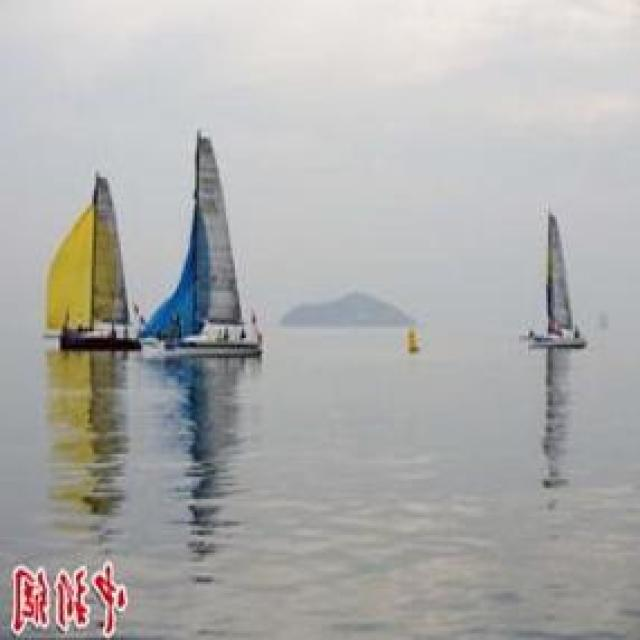sailboat: (146, 125, 264, 351), (39, 172, 142, 350), (519, 207, 590, 344)
